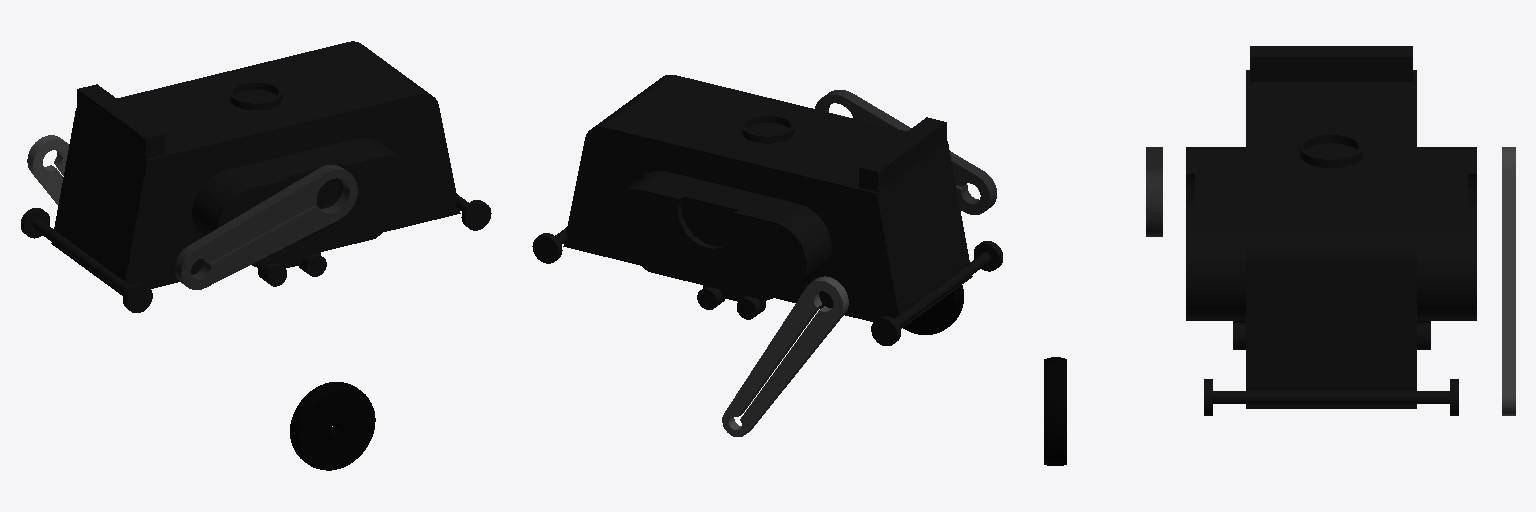
The robot description file, URDF, robot "gamma_go":
<?xml version="1.0" encoding="utf-8"?>

<robot name="gamma_go">
    <mujoco>
        <compiler meshdir="../meshes/" balanceinertia="false" discardvisual="false" fusestatic="false"/>
    </mujoco>
    <link name="base_link">
        <inertial>
            <origin xyz="0.0066 0 -0.0318" rpy="0 0 0"/>
            <mass value="11.513"/>
            <inertia ixx="0.1392" ixy="0.001321" ixz="-0.01715" iyy="0.2492" iyz="0.0002667" izz="0.3111"/>
        </inertial>
        <visual>
            <origin xyz="0 0 0" rpy="0 0 0"/>
            <geometry>
                <mesh filename="../meshes/base.STL"/>
            </geometry>
            <material name="">
                <color rgba="0.1 0.1 0.1 1"/>
            </material>
        </visual>
        <collision>
            <origin xyz="0 0 -0.03" rpy="0 0 0"/>
            <geometry>
                <box size="0.5 0.20 0.2"/>
            </geometry>
        </collision>
        <collision>
            <origin xyz="0 0 -0.04" rpy="0 0 0"/>
            <geometry>
                <box size="0.25 0.32 0.12"/>
            </geometry>
        </collision>
        <collision>
            <origin xyz="0.257 0 -0.115" rpy="1.57079632 0 0"/>
            <geometry>
                <cylinder length="0.28" radius="0.02"/>
            </geometry>
        </collision>
        <collision>
            <origin xyz="-0.257 0 -0.115" rpy="1.57079632 0 0"/>
            <geometry>
                <cylinder length="0.28" radius="0.02"/>
            </geometry>
        </collision>
        <collision>
            <origin xyz="0.03 0 -0.148" rpy="1.57079632 0 0"/>
            <geometry>
                <cylinder length="0.22" radius="0.015"/>
            </geometry>
        </collision>
        <collision>
            <origin xyz="-0.03 0 -0.148" rpy="1.57079632 0 0"/>
            <geometry>
                <cylinder length="0.22" radius="0.015"/>
            </geometry>
        </collision>
    </link>
    <link name="hipx_l_link">
        <inertial>
            <origin xyz="0.098 0 0" rpy="0 0 0"/>
            <mass value="0.934"/>
            <inertia ixx="0.0002846" ixy="0.0000143136" ixz="0.0001012944" iyy="0.003525624" iyz="-0.0000042544" izz="0.0032762672"/>
        </inertial>
        <collision>
            <origin xyz="0.210 0 0" rpy="1.57079632 0 0"/>
            <geometry>
                <cylinder length="0.015" radius="0.03"/>
            </geometry> 
        </collision>
    </link>
    <joint name="hipx_l_joint" type="revolute">
        <origin xyz="0 0.195 0" rpy="0 0
         0"/>
        <parent link="base_link"/>
        <child link="hipx_l_link"/>
        <axis xyz="1 0 0"/>
        <limit lower="-0.3" upper="0.6" effort="80" velocity="20"/>
    </joint>
    <link name="hipy_l_link">
        <inertial>
            <origin xyz="0.098 0 0" rpy="0 0 0"/>
            <mass value="0.934"/>
            <inertia ixx="0.0002846" ixy="0.0000143136" ixz="0.0001012944" iyy="0.003525624" iyz="-0.0000042544" izz="0.0032762672"/>
        </inertial>
        <visual>
            <origin xyz="0 0 0" rpy="0 0 0"/>
            <geometry>
                <mesh filename="../meshes/hip_link_l.STL"/>
            </geometry>
            <material name="">
                <color rgba="0.2 0.2 0.2 1"/>
            </material>
        </visual>
        <collision>
            <origin xyz="0.105 0 0" rpy="0 0 0"/>
            <geometry>
                <box size="0.21 0.015 0.06"/>
            </geometry>
        </collision>
        <collision>
            <origin xyz="0.210 0 0" rpy="1.57079632 0 0"/>
            <geometry>
                <cylinder length="0.015" radius="0.03"/>
            </geometry> 
        </collision>
    </link>
    <joint name="hipy_l_joint" type="revolute">
        <origin xyz="0 0 0" rpy="0 1.5708 0"/>
        <parent link="hipx_l_link"/>
        <child link="hipy_l_link"/>
        <axis xyz="0 1 0"/>
        <limit lower="0.416" upper="2.153" effort="80" velocity="20"/>
    </joint>    
    <link name="knee_l_link">
        <inertial>
            <origin xyz="0.123 0 0" rpy="0 0 0"/>
            <mass value="0.67"/>
            <inertia ixx="0.0009460464" ixy="0.0016010944" ixz="0.000006592" iyy="0.0033157904" iyz="-0.0000033216" izz="0.0042459008"/>
        </inertial>
        <visual>
            <origin xyz="0 0 0" rpy="0 0 0"/>
            <geometry>
                <mesh filename="../meshes/knee_link_l.STL"/>
            </geometry>
            <material name="">
                <color rgba="0.3 0.3 0.3 1"/>
            </material>
        </visual>
        <collision>
            <origin xyz="0.124 0 0" rpy="0 0 0"/>
            <geometry>
                <box size="0.248 0.015 0.06"/>
            </geometry>
        </collision>
        <collision>
            <origin xyz="0 0 0" rpy="1.57079632 0 0"/>
            <geometry>
                <cylinder length="0.018" radius="0.03"/>
            </geometry> 
        </collision>
    </link>
    <joint name="knee_l_joint" type="revolute">
        <origin xyz="0.210 0 0" rpy="0 3.1416 0"/>
        <parent link="hipy_l_link"/>
        <child link="knee_l_link"/>
        <axis xyz="0 1 0"/>
        <limit lower="0.416" upper="2.153" effort="80" velocity="20"/>
    </joint>
    <link name="wheel_l">
        <inertial>
            <origin xyz="0 0 0" rpy="0 0 0"/>
            <mass value="0.468"/>
            <inertia ixx="0.00034258" ixy="0.0" ixz="0.0" iyy="0.00054" iyz="0.0" izz="0.000343769"/>
        </inertial>
        <visual>
            <origin xyz="0 0 0" rpy="0 0 0"/>
            <geometry>
                <mesh filename="../meshes/wheel_l.STL"/>
            </geometry>
            <material name="">
                <color rgba="0.05 0.05 0.05 1"/>
            </material>
        </visual>
        <collision>
            <origin xyz="0 0 0" rpy="1.57079632 0 0"/>
            <geometry>
                <cylinder length="0.015" radius="0.06"/>
            </geometry>
        </collision>
    </link>
    <joint name="wheel_l_joint" type="continuous">
        <origin xyz="0.264 0.1085 0" rpy="0 0 0"/>
        <parent link="knee_l_link"/>
        <child link="wheel_l"/>
        <axis xyz="0 1 0"/>
        <limit effort="5" velocity="60"/>
    </joint>

    <link name="hipx_r_link">
        <inertial>
            <origin xyz="0.098 0 0" rpy="0 0 0"/>
            <mass value="0.934"/>
            <inertia ixx="0.0002846" ixy="0.0000143136" ixz="0.0001012944" iyy="0.003525624" iyz="-0.0000042544" izz="0.0032762672"/>
        </inertial>
        <collision>
            <origin xyz="0.210 0 0" rpy="1.57079632 0 0"/>
            <geometry>
                <cylinder length="0.015" radius="0.03"/>
            </geometry>
        </collision>
    </link>
    <joint name="hipx_r_joint" type="revolute">
        <origin xyz="0 -0.195 0" rpy="0 0 0"/>
        <parent link="base_link"/>
        <child link="hipx_r_link"/>
        <axis xyz="1 0 0"/>
        <limit lower="-0.3" upper="0.6" effort="80" velocity="20"/>
    </joint>
    <link name="hipy_r_link">
        <inertial>
            <origin xyz="0.098 0 0" rpy="0 0 0"/>
            <mass value="0.934"/>
            <inertia ixx="0.0002846" ixy="0.0000143136" ixz="0.0001012944" iyy="0.003525624" iyz="-0.0000042544" izz="0.0032762672"/>
        </inertial>
        <visual>
            <origin xyz="0 0 0" rpy="0 0 0"/>
            <geometry>
                <mesh filename="../meshes/hip_link_r.STL"/>
            </geometry>
            <material name="">
                <color rgba="0.2 0.2 0.2 1"/>
            </material>
        </visual>
        <collision>
            <origin xyz="0.105 0 0" rpy="0 0 0"/>
            <geometry>
                <box size="0.21 0.015 0.06"/>
            </geometry>
        </collision>
        <collision>
            <origin xyz="0.210 0 0" rpy="1.57079632 0 0"/>
            <geometry>
                <cylinder length="0.015" radius="0.03"/>
            </geometry>
        </collision>
    </link>
    <joint name="hipy_r_joint" type="revolute">
        <origin xyz="0 0 0" rpy="0 1.5708 0"/>
        <parent link="hipx_r_link"/>
        <child link="hipy_r_link"/>
        <axis xyz="0 1 0"/>
        <limit lower="0.416" upper="2.153" effort="80" velocity="20"/>
    </joint>
    <link name="knee_r_link">
        <inertial>
            <origin xyz="0.123 0 0" rpy="0 0 0"/>
            <mass value="0.67"/>
            <inertia ixx="0.0009460464" ixy="0.0016010944" ixz="0.000006592" iyy="0.0033157904" iyz="-0.0000033216" izz="0.0042459008"/>
        </inertial>
        <visual>
            <origin xyz="0 0 0" rpy="0 0 0"/>
            <geometry>
                <mesh filename="../meshes/knee_link_r.STL"/>
            </geometry>
            <material name="">
                <color rgba="0.3 0.3 0.3 1"/>
            </material>
        </visual>
        <collision>
            <origin xyz="0.124 0 0" rpy="0 0 0"/>
            <geometry>
                <box size="0.248 0.015 0.06"/>
            </geometry>
        </collision>
        <collision>
            <origin xyz="0 0 0" rpy="1.57079632 0 0"/>
            <geometry>
                <cylinder length="0.018" radius="0.03"/>
            </geometry>
        </collision>
    </link>
    <joint name="knee_r_joint" type="revolute">
        <origin xyz="0.210 0 0" rpy="0 3.1416 0"/>
        <parent link="hipy_r_link"/>
        <child link="knee_r_link"/>
        <axis xyz="0 1 0"/>
        <limit lower="0.416" upper="2.153" effort="80" velocity="20"/>
    </joint>
    <link name="wheel_r">
        <inertial>
            <origin xyz="0 0 0" rpy="0 0 0"/>
            <mass value="0.468"/>
            <inertia ixx="0.00034258" ixy="0.0" ixz="0.0" iyy="0.00054" iyz="0.0" izz="0.000343769"/>
        </inertial>
        <visual>
            <origin xyz="0 0 0" rpy="0 0 0"/>
            <geometry>
                <mesh filename="../meshes/wheel_r.STL"/>
            </geometry>
            <material name="">
                <color rgba="0.05 0.05 0.05 1"/>
            </material>
        </visual>
        <collision>
            <origin xyz="0 0 0" rpy="1.57079632 0 0"/>
            <geometry>
                <cylinder length="0.015" radius="0.06"/>
            </geometry>
        </collision>
    </link>
    <joint name="wheel_r_joint" type="continuous">
        <origin xyz="0.264 -0.1085 0" rpy="0 0 0"/>
        <parent link="knee_r_link"/>
        <child link="wheel_r"/>
        <axis xyz="0 1 0"/>
        <limit effort="5" velocity="60"/>
    </joint>


</robot>

--- Facts derived from the render (not from the file) ---
Views: 3 orthographic renders of the robot side by side, from view 1: azimuth 30°, elevation 25°; view 2: azimuth 150°, elevation 25°; view 3: azimuth 270°, elevation 25°.
Model gamma_go with 9 links and 8 joints (6 revolute, 2 continuous), rooted at base_link, posed all joints at 0 but 4 set to mid-range because 0 is outside their limits (hipy_l_joint = 1.28, knee_l_joint = 1.28, hipy_r_joint = 1.28, knee_r_joint = 1.28).
Links seen in each view (by area): view 1: base_link, hipy_r_link, wheel_r, knee_l_link; view 2: base_link, knee_l_link, hipy_r_link, wheel_r; view 3: base_link, knee_l_link, wheel_r, hipy_r_link.
Link boxes in pixels (x1=…): base_link: x1=21, y1=41, x2=491, y2=312; hipy_r_link: x1=175, y1=165, x2=357, y2=289; wheel_r: x1=290, y1=382, x2=375, y2=470; knee_l_link: x1=27, y1=135, x2=68, y2=204; base_link: x1=532, y1=75, x2=1002, y2=345; knee_l_link: x1=722, y1=276, x2=848, y2=436; hipy_r_link: x1=815, y1=90, x2=996, y2=214; wheel_r: x1=903, y1=285, x2=963, y2=334; base_link: x1=1186, y1=46, x2=1476, y2=415; knee_l_link: x1=1502, y1=147, x2=1515, y2=415; wheel_r: x1=1044, y1=357, x2=1066, y2=465; hipy_r_link: x1=1146, y1=147, x2=1162, y2=236.
Bounding box of the posed robot: 0.556 × 0.5185 × 0.4296 m (x, y, z).
Meshes: 7 distinct files referenced, 4 mesh visuals loaded (4 binary STL); not drawn: 3 (reference not matched to a file when rendering).
